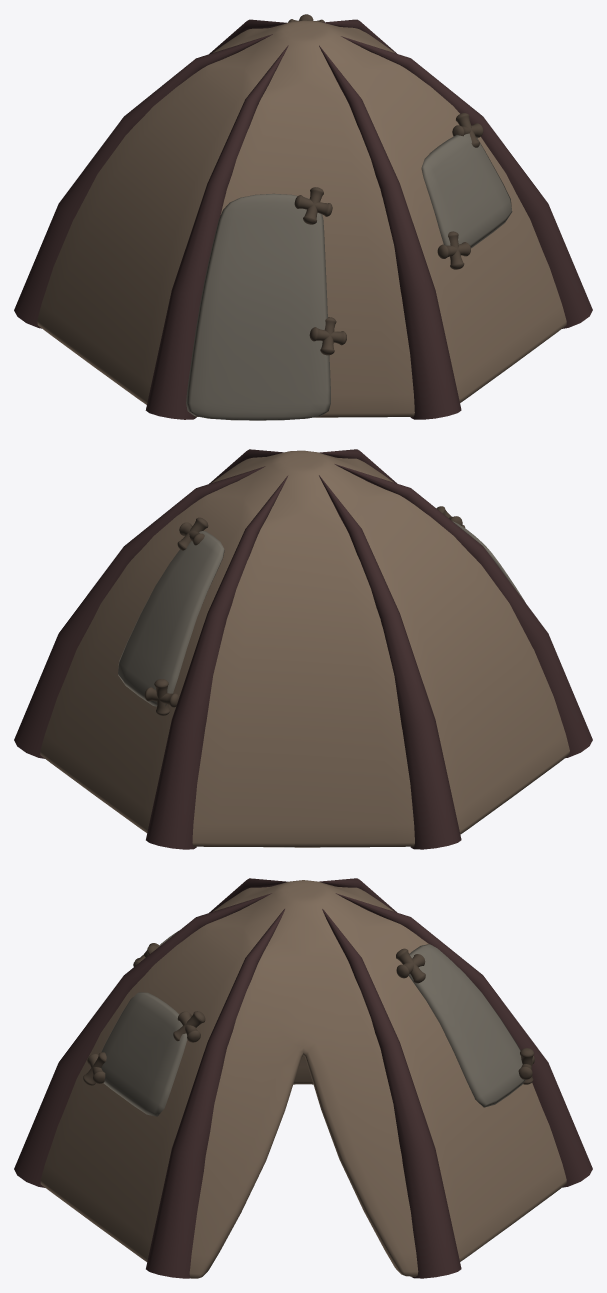
File: carpa.fbx
3 views of the same model, one above another, from view 1: azimuth 30°, elevation 25°; view 2: azimuth 150°, elevation 25°; view 3: azimuth 270°, elevation 25° (orthographic).
Parts seen in each view (by area): view 1: Carpa, Carpa.001, Carpa.002, Carpa.006, Carpa.003, ChozaPoncho.003, ChozaPoncho.005, ChozaPoncho.001, ChozaPoncho; view 2: Carpa, Carpa.004, Carpa.003, Carpa.005, Carpa.002, ChozaPoncho.004, ChozaPoncho.002; view 3: Carpa, Carpa.006, Carpa.005, Carpa.001, Carpa.004, ChozaPoncho.002, ChozaPoncho, ChozaPoncho.001.
Part boxes in pixels (box(x1,y1,x2,y2)): Carpa: box(37, 20, 566, 420); Carpa.001: box(319, 45, 461, 419); Carpa.002: box(145, 45, 288, 419); Carpa.006: box(341, 36, 592, 328); Carpa.003: box(14, 34, 272, 328); ChozaPoncho.003: box(294, 187, 332, 224); ChozaPoncho.005: box(309, 317, 346, 355); ChozaPoncho.001: box(437, 231, 470, 269); ChozaPoncho: box(452, 113, 483, 147); Carpa: box(40, 450, 569, 847); Carpa.004: box(146, 475, 288, 849); Carpa.003: box(319, 475, 461, 849); Carpa.005: box(14, 466, 265, 758); Carpa.002: box(334, 464, 592, 758); ChozaPoncho.004: box(144, 679, 179, 715); ChozaPoncho.002: box(177, 517, 208, 550); Carpa: box(40, 880, 566, 1278); Carpa.006: box(146, 909, 284, 1278); Carpa.005: box(322, 909, 461, 1278); Carpa.001: box(14, 893, 271, 1187); Carpa.004: box(335, 893, 592, 1187); ChozaPoncho.002: box(396, 948, 425, 983); ChozaPoncho: box(173, 1011, 205, 1042); ChozaPoncho.001: box(83, 1052, 106, 1085).
Size of the model in its own units: 153 by 85.4 by 134.
